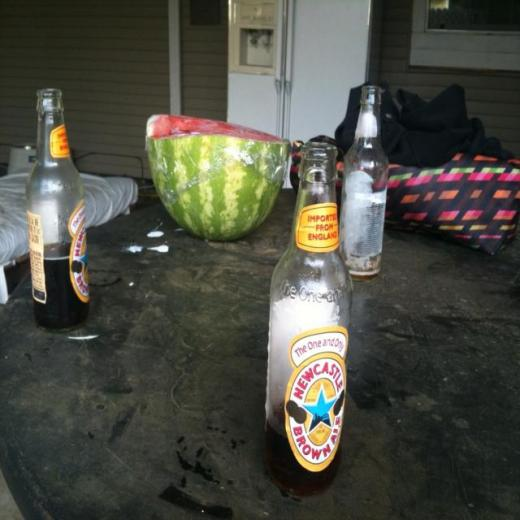Cherry: (145, 117, 290, 241)
